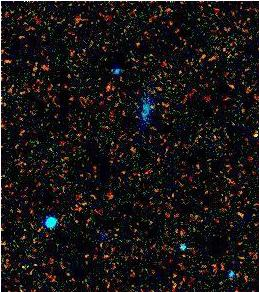star: (91, 184, 121, 214)
